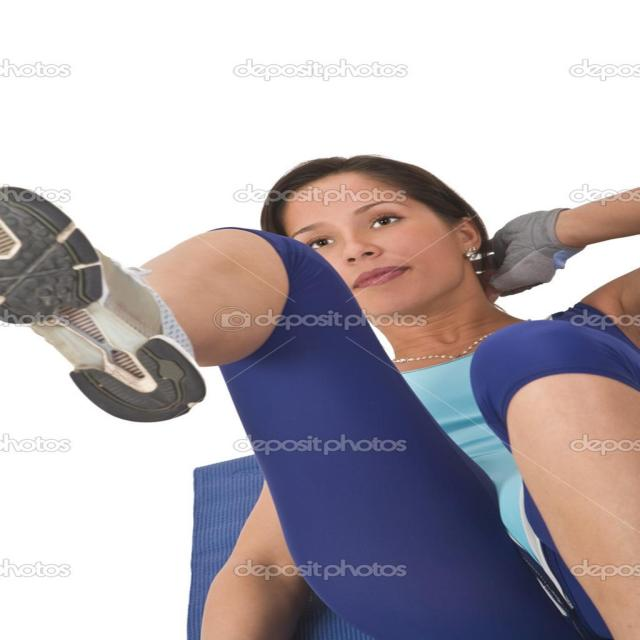Face: (270, 169, 494, 317)
